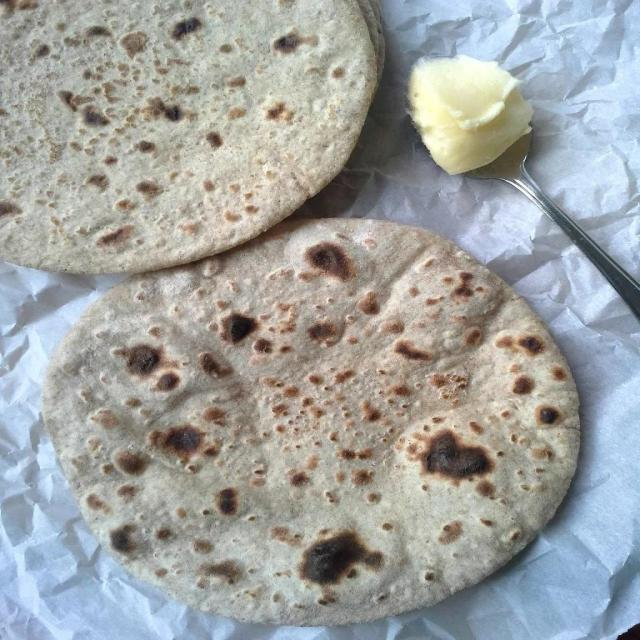roti: (43, 210, 583, 625), (0, 0, 375, 275)
